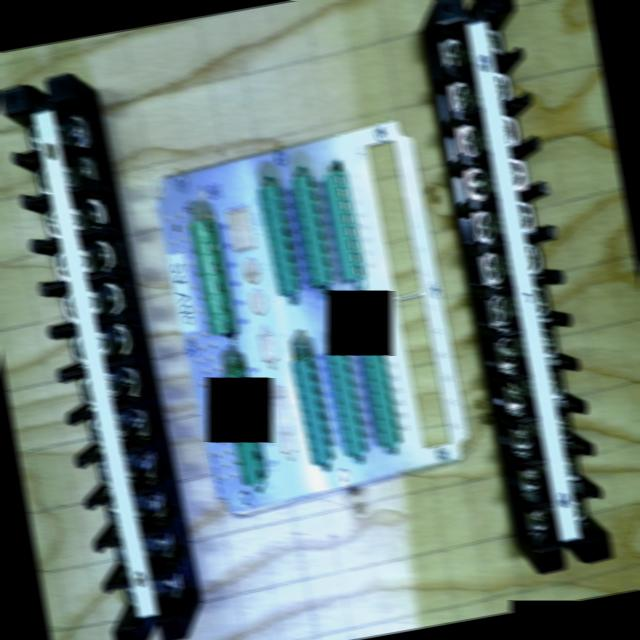Flathead_Block: (0, 74, 189, 640)
Phillips_Block: (435, 0, 616, 573)
Terminal_1: (188, 218, 236, 335), (220, 369, 268, 486)
Terminal_2: (289, 174, 335, 286), (324, 347, 370, 458), (256, 183, 302, 294), (290, 356, 336, 466), (359, 338, 403, 449)
